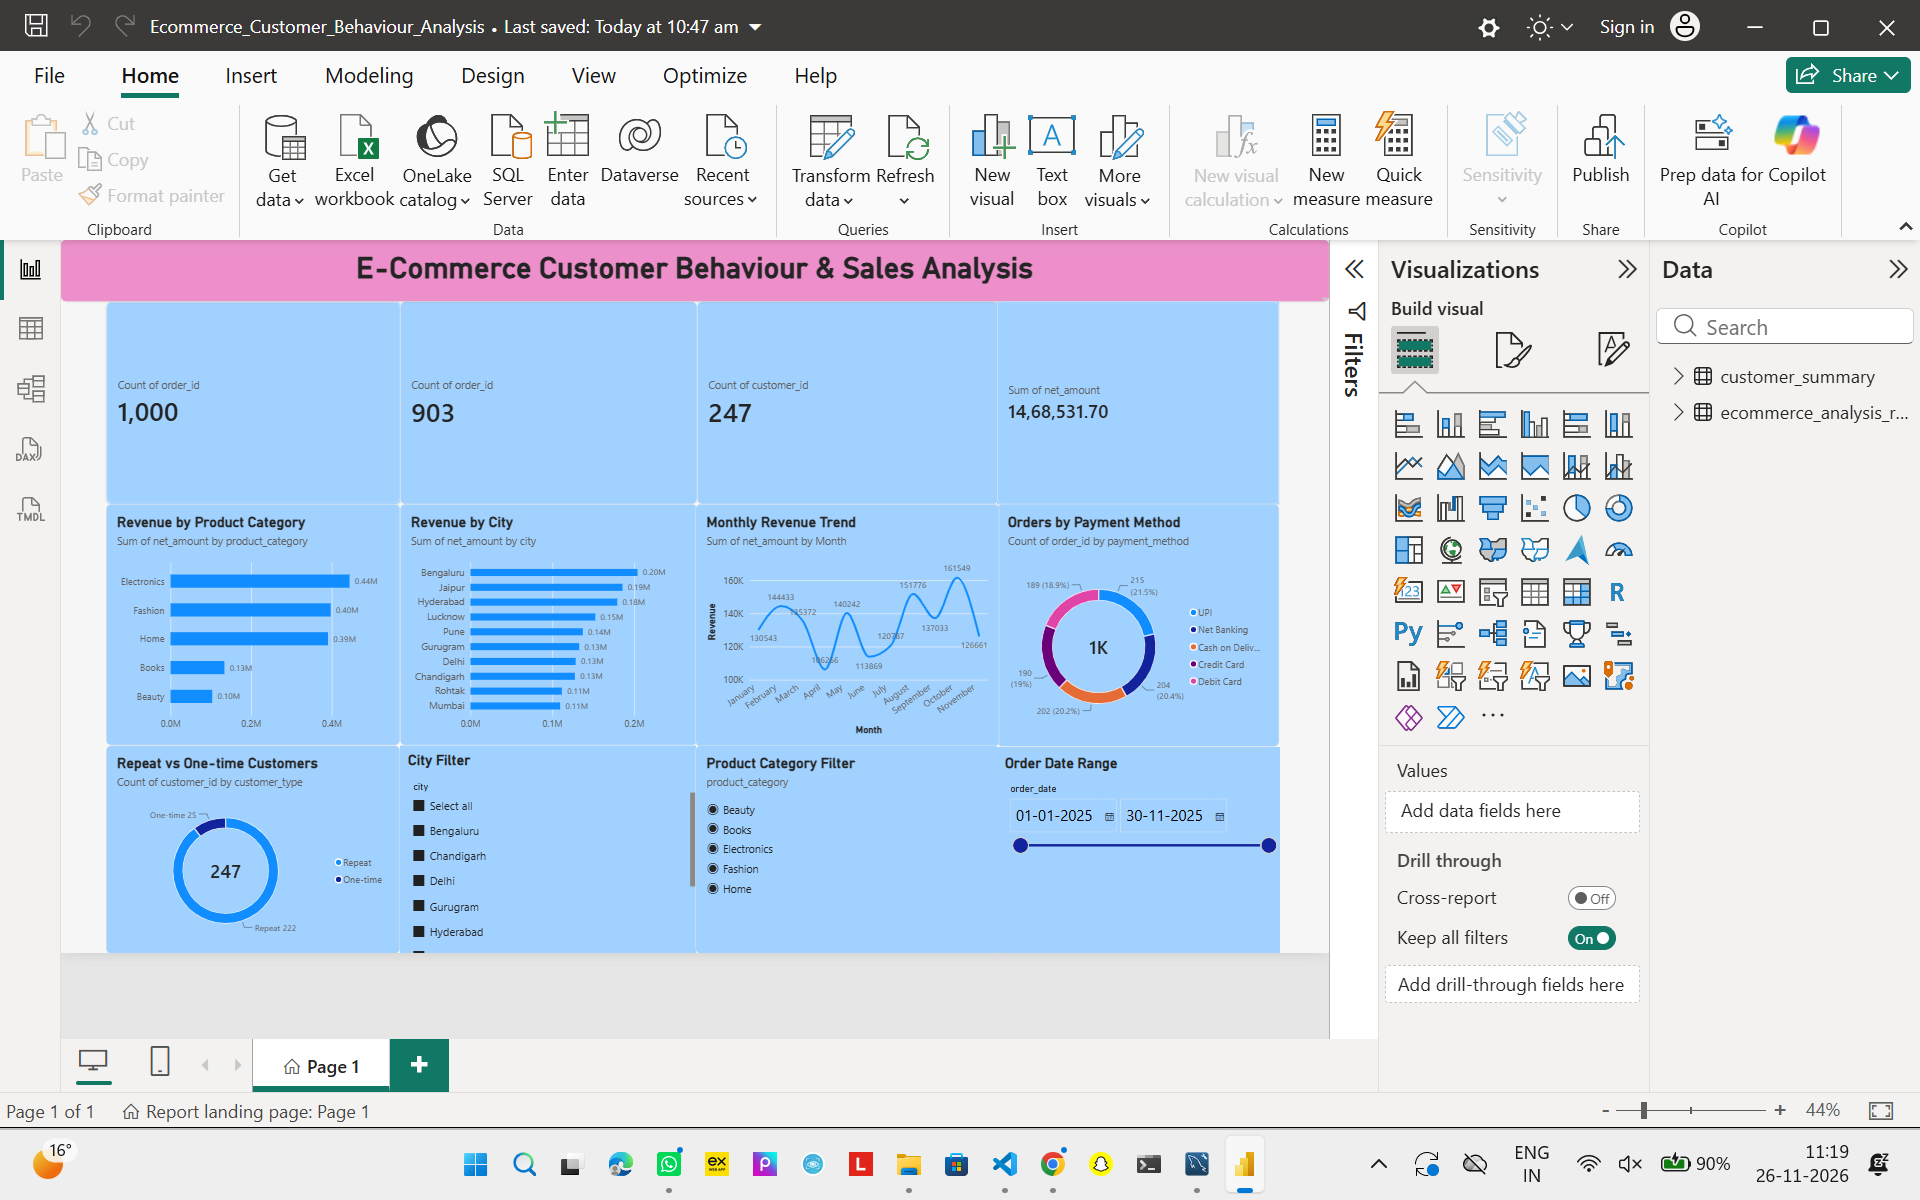

The dashboard page shown, as its layout file describes it:
{"tool":"powerbi","page":{"name":"Page 1","canvas":[1920,1080],"ordinal":0},"visuals":[{"type":"cardVisual","fields":{"Data":["CountNonNull(ecommerce_analysis_ready.order_id)"]},"box":[67.5,92.5,447.5,307.5],"z":0},{"type":"cardVisual","fields":{"Data":["Count(ecommerce_analysis_ready.customer_id)"]},"box":[962.5,92.5,457.5,307.5],"z":1},{"type":"cardVisual","fields":{"Data":["CountNonNull(ecommerce_analysis_ready.order_id)"]},"box":[512.5,92.5,450,307.5],"z":2},{"type":"clusteredBarChart","title":"Revenue by Product Category","fields":{"Category":["ecommerce_analysis_ready.product_category"],"Y":["Sum(ecommerce_analysis_ready.net_amount)"]},"box":[67.5,400,445,365],"z":4},{"type":"clusteredBarChart","title":"Revenue by City","fields":{"Category":["ecommerce_analysis_ready.city"],"Y":["Sum(ecommerce_analysis_ready.net_amount)"]},"box":[512.5,400,450,365],"z":5},{"type":"donutChart","title":"Orders by Payment Method","fields":{"Category":["ecommerce_analysis_ready.payment_method"],"Y":["CountNonNull(ecommerce_analysis_ready.order_id)"]},"box":[1417.5,400,427.5,367.5],"z":6},{"type":"lineChart","title":"Monthly Revenue Trend","fields":{"Category":["ecommerce_analysis_ready.order_date.Variation.Date Hierarchy.Month"],"Y":["Sum(ecommerce_analysis_ready.net_amount)"]},"box":[960,400,460,367.5],"z":7},{"type":"donutChart","title":"Repeat vs One-time Customers","fields":{"Category":["customer_summary.customer_type"],"Y":["CountNonNull(customer_summary.customer_id)"]},"box":[67.5,765,445,315],"z":8},{"type":"slicer","title":"City Filter ","fields":{"Values":["ecommerce_analysis_ready.city"]},"box":[512.5,765,447.5,315],"z":9},{"type":"listSlicer","title":"Product Category Filter ","fields":{"Values":["ecommerce_analysis_ready.product_category"]},"box":[960,765,460,315],"z":10},{"type":"slicer","title":"Order Date Range","fields":{"Values":["ecommerce_analysis_ready.order_date"]},"box":[1417.5,767.5,427.5,312.5],"z":11},{"type":"textbox","title":"E-Commerce Customer Behaviour & Sales Analysis","box":[0,0,1920,92.5],"z":19},{"type":"cardVisual","fields":{"Data":["Sum(ecommerce_analysis_ready.net_amount)"]},"box":[1417.5,92.5,427.5,307.5],"z":20}]}

Visuals, with their boxes on the page's 1920x1080 design canvas (x1, y1, x2, y2). These are canvas units, not pixel positions in the 1920x1200 screenshot, which may show the page scaled, cropped or inside an application window:
cardVisual - CountNonNull(ecommerce_analysis_ready.order_id): 68, 92, 515, 400
cardVisual - Count(ecommerce_analysis_ready.customer_id): 962, 92, 1420, 400
cardVisual - CountNonNull(ecommerce_analysis_ready.order_id): 512, 92, 962, 400
"Revenue by Product Category" clusteredBarChart: 68, 400, 512, 765
"Revenue by City" clusteredBarChart: 512, 400, 962, 765
"Orders by Payment Method" donutChart: 1418, 400, 1845, 768
"Monthly Revenue Trend" lineChart: 960, 400, 1420, 768
"Repeat vs One-time Customers" donutChart: 68, 765, 512, 1080
"City Filter " slicer: 512, 765, 960, 1080
"Product Category Filter " listSlicer: 960, 765, 1420, 1080
"Order Date Range" slicer: 1418, 768, 1845, 1080
"E-Commerce Customer Behaviour & Sales Analysis" textbox: 0, 0, 1920, 92
cardVisual - Sum(ecommerce_analysis_ready.net_amount): 1418, 92, 1845, 400
